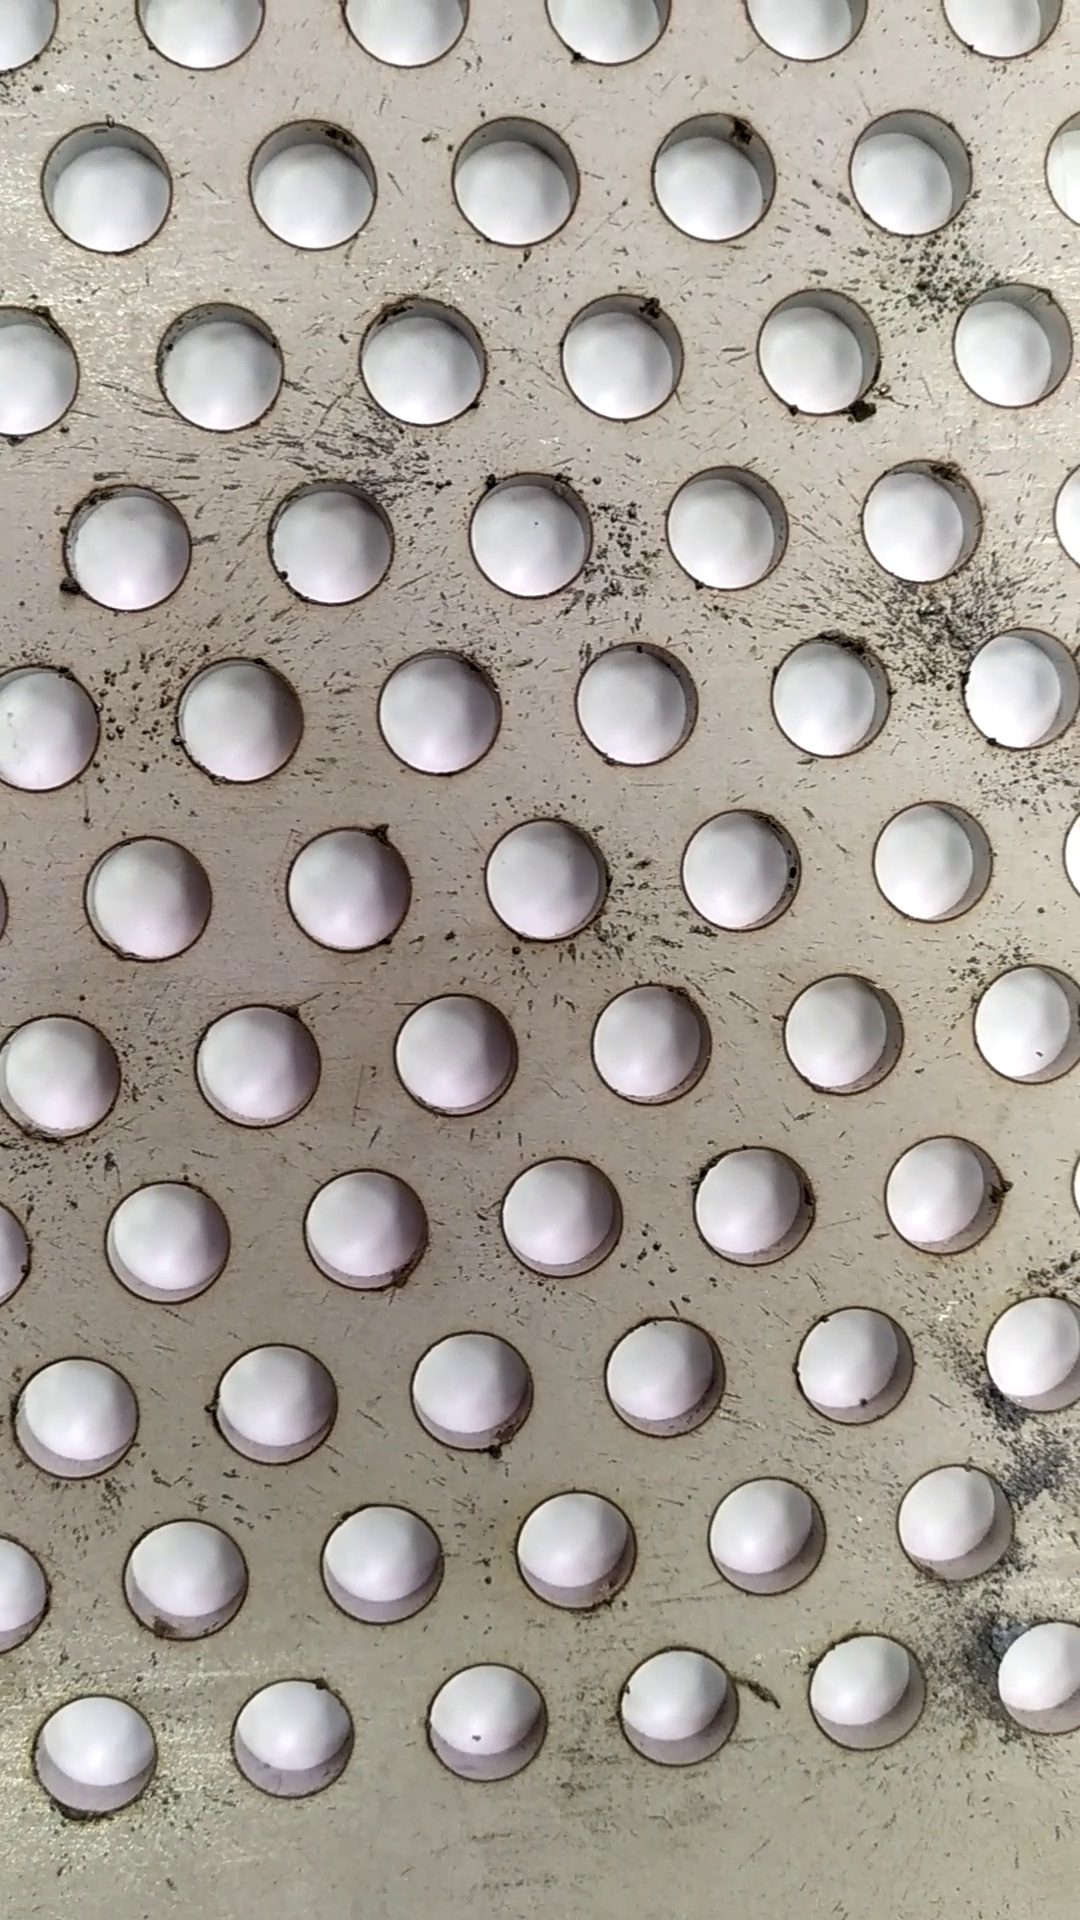Hole: (30, 109, 194, 262), (18, 1677, 177, 1832), (1, 1340, 164, 1489), (438, 107, 597, 256), (157, 646, 316, 791), (349, 284, 500, 436), (183, 997, 342, 1142), (407, 1654, 564, 1799), (73, 822, 224, 971), (291, 1160, 443, 1309), (381, 982, 535, 1127), (473, 811, 620, 960), (314, 1485, 458, 1636), (574, 975, 731, 1113), (600, 1636, 757, 1775), (98, 1168, 249, 1311), (233, 111, 386, 252), (785, 1291, 926, 1443), (454, 462, 597, 609), (55, 475, 204, 617), (851, 448, 992, 599), (563, 638, 716, 777), (369, 644, 518, 785), (400, 1323, 547, 1462), (141, 299, 294, 434), (644, 105, 787, 248), (591, 1305, 738, 1444), (258, 473, 407, 611), (222, 1675, 363, 1817), (112, 1507, 257, 1646), (204, 1335, 351, 1472), (673, 803, 814, 944), (943, 270, 1080, 415), (489, 1149, 636, 1284), (757, 624, 895, 766), (872, 1122, 1014, 1261), (280, 822, 425, 956), (545, 289, 691, 422), (843, 98, 981, 237), (696, 1466, 832, 1609), (781, 963, 913, 1109), (508, 1481, 644, 1622), (881, 1456, 1021, 1592), (657, 458, 794, 595), (687, 1134, 825, 1270), (749, 281, 881, 419), (862, 793, 996, 928), (957, 615, 1080, 752), (808, 1626, 928, 1758)
